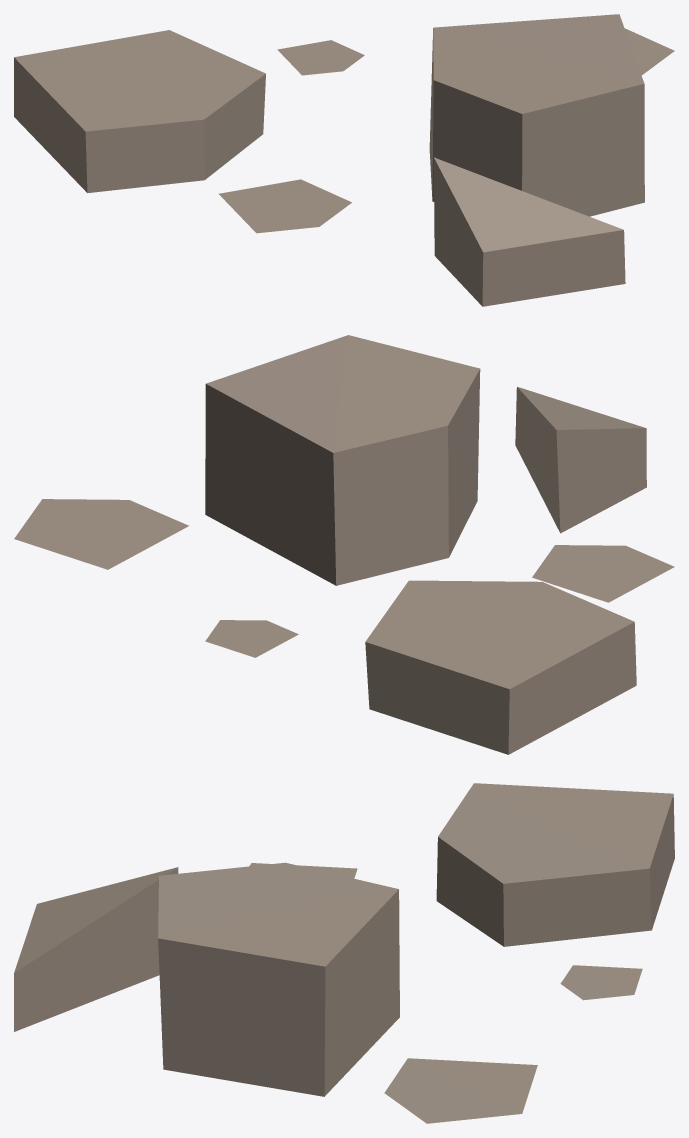
The model's file is Rubble02.fbx.
The picture shows the model from 3 angles, top to bottom: view 1: azimuth 30°, elevation 25°; view 2: azimuth 150°, elevation 25°; view 3: azimuth 270°, elevation 25°; orthographic projection. The views are drawn at different scales.
Visible parts, largest first — view 1: Rubble02; view 2: Rubble02; view 3: Rubble02.
Part boxes in pixels (box(x1,y1,x2,y2)): Rubble02: box(14, 14, 674, 306); Rubble02: box(14, 335, 674, 754); Rubble02: box(14, 783, 674, 1123).
Bounding box in the file's own units: 68.76 × 15.03 × 64.84.
